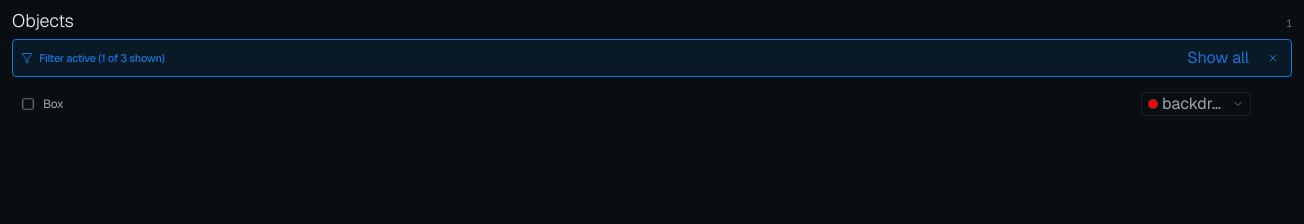
Objects panel › shows every annotation once 'Show all' is on, and back
This screenshot has width=1304, height=224.
Click the button with test id "filter-active-show-all" at (1218, 58), box top-left (1181, 44), bottom-right (1255, 72)
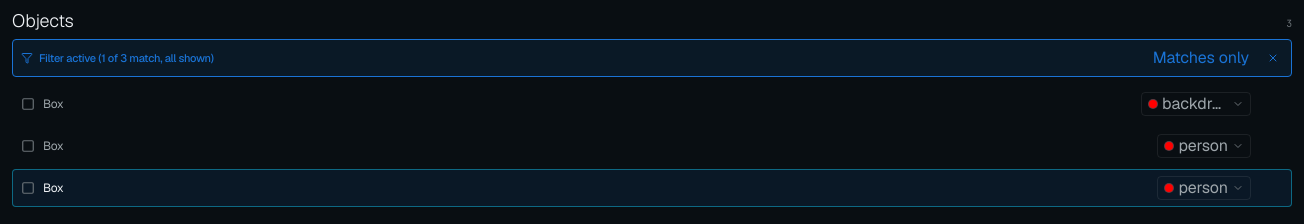
Expected: the element with test id "filter-active-pill" shows "1 of 3 match, all shown", top-left (39, 51), bottom-right (214, 65)
Expected: the button with test id "object-row-a-person" is shown, top-left (12, 127), bottom-right (1292, 165)
Expected: the button with test id "object-row-a-person-2" is shown, top-left (12, 169), bottom-right (1292, 207)
Click the button with test id "filter-active-show-all" at (1201, 58), box top-left (1147, 44), bottom-right (1255, 72)
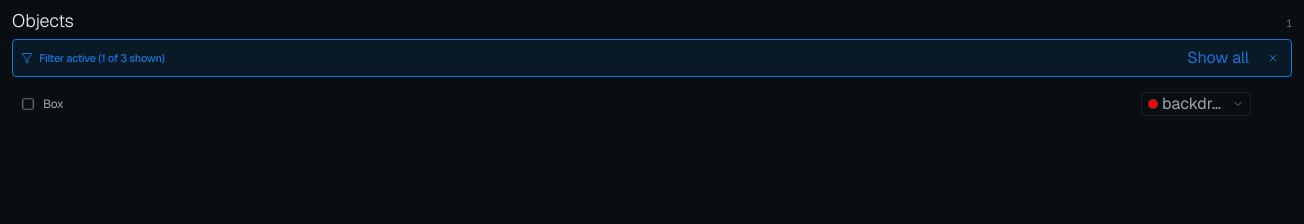
Expected: the button with test id "object-row-a-person" is gone
